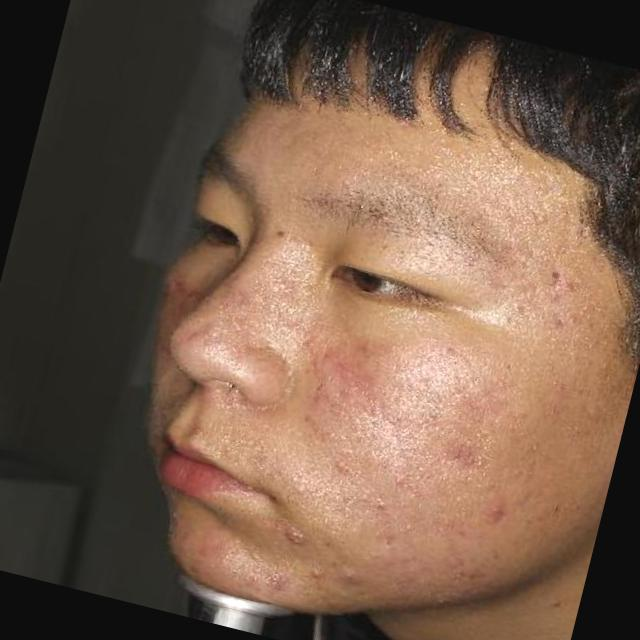nodules: (274, 520, 318, 554), (330, 559, 368, 592), (476, 495, 512, 522), (467, 446, 494, 476), (324, 452, 354, 477), (362, 399, 389, 421), (303, 563, 328, 585)
